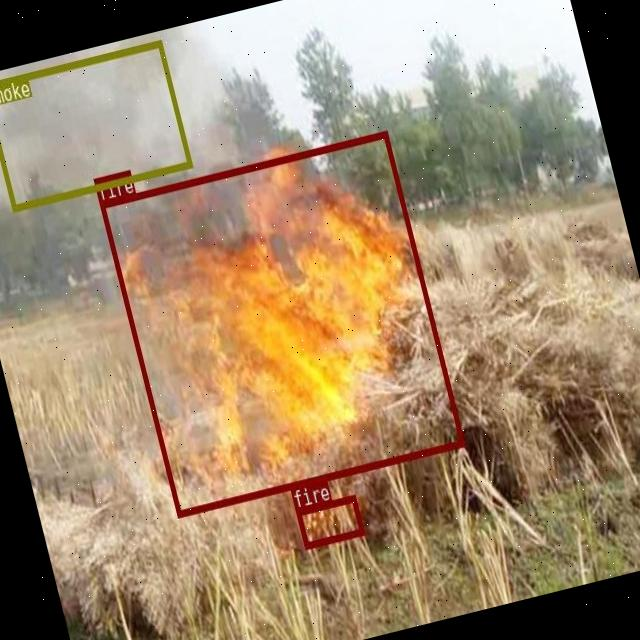fire: (98, 130, 464, 516), (295, 494, 363, 548)
smoke: (0, 39, 191, 209)
